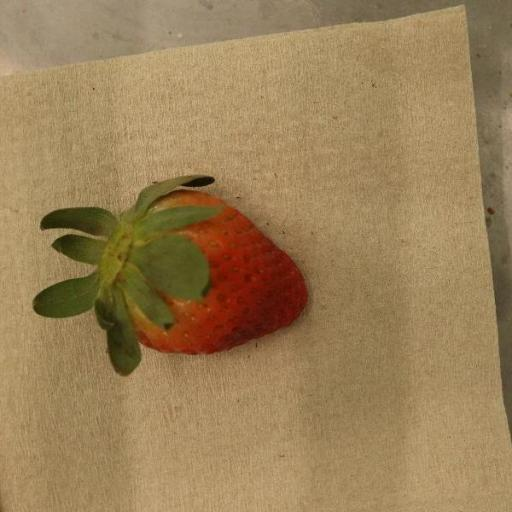Strawberry: (31, 175, 308, 377)
